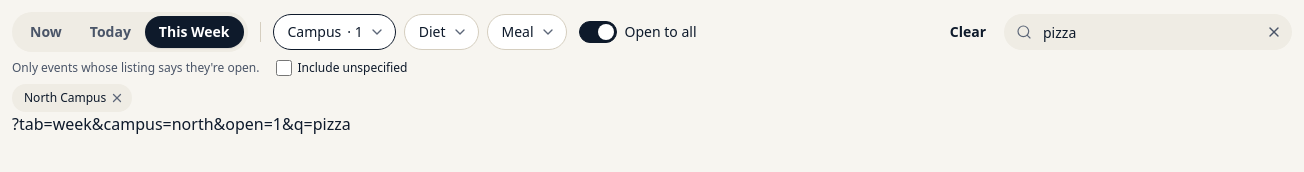
Test: FilterBar › Clear removes every filter but keeps the tab and the search
This screenshot has width=1304, height=172.
Click the button "Clear". click: point(968, 32)
box: x1=936 y1=14 x2=1000 y2=50
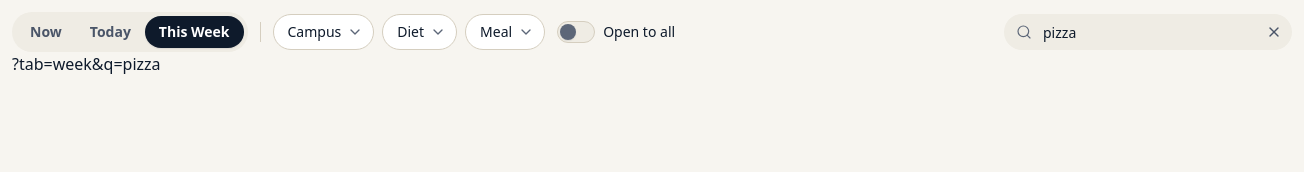
Now the text with test id "search" reads "?tab=week&q=pizza", box x1=12 y1=53 x2=160 y2=75
Now the button "Clear" is gone
